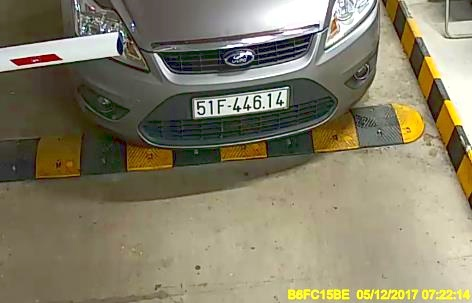plate: (189, 88, 294, 118)
